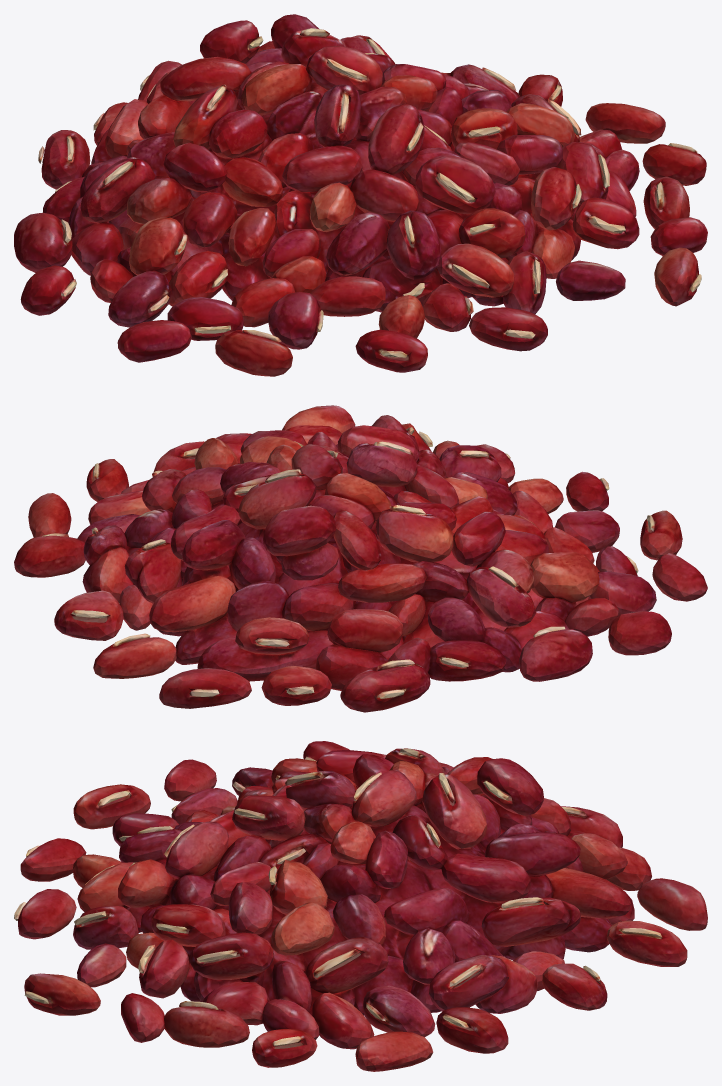
File: lod_basic_pbr.fbx
The picture shows the model from 3 angles, top to bottom: view 1: azimuth 30°, elevation 25°; view 2: azimuth 150°, elevation 25°; view 3: azimuth 270°, elevation 25°; orthographic projection. The views are drawn at different scales.
Parts seen in each view (by area): view 1: model_LOD0; view 2: model_LOD0; view 3: model_LOD0.
Boxes of the visible parts, x1,y1,x2,y2 form: model_LOD0: (14, 14, 707, 376); model_LOD0: (14, 405, 707, 712); model_LOD0: (14, 741, 707, 1071).
Size of what is drawn, in the model's own units: 190 by 47.4 by 178.
Materials: 1 (1 with a texture image).
